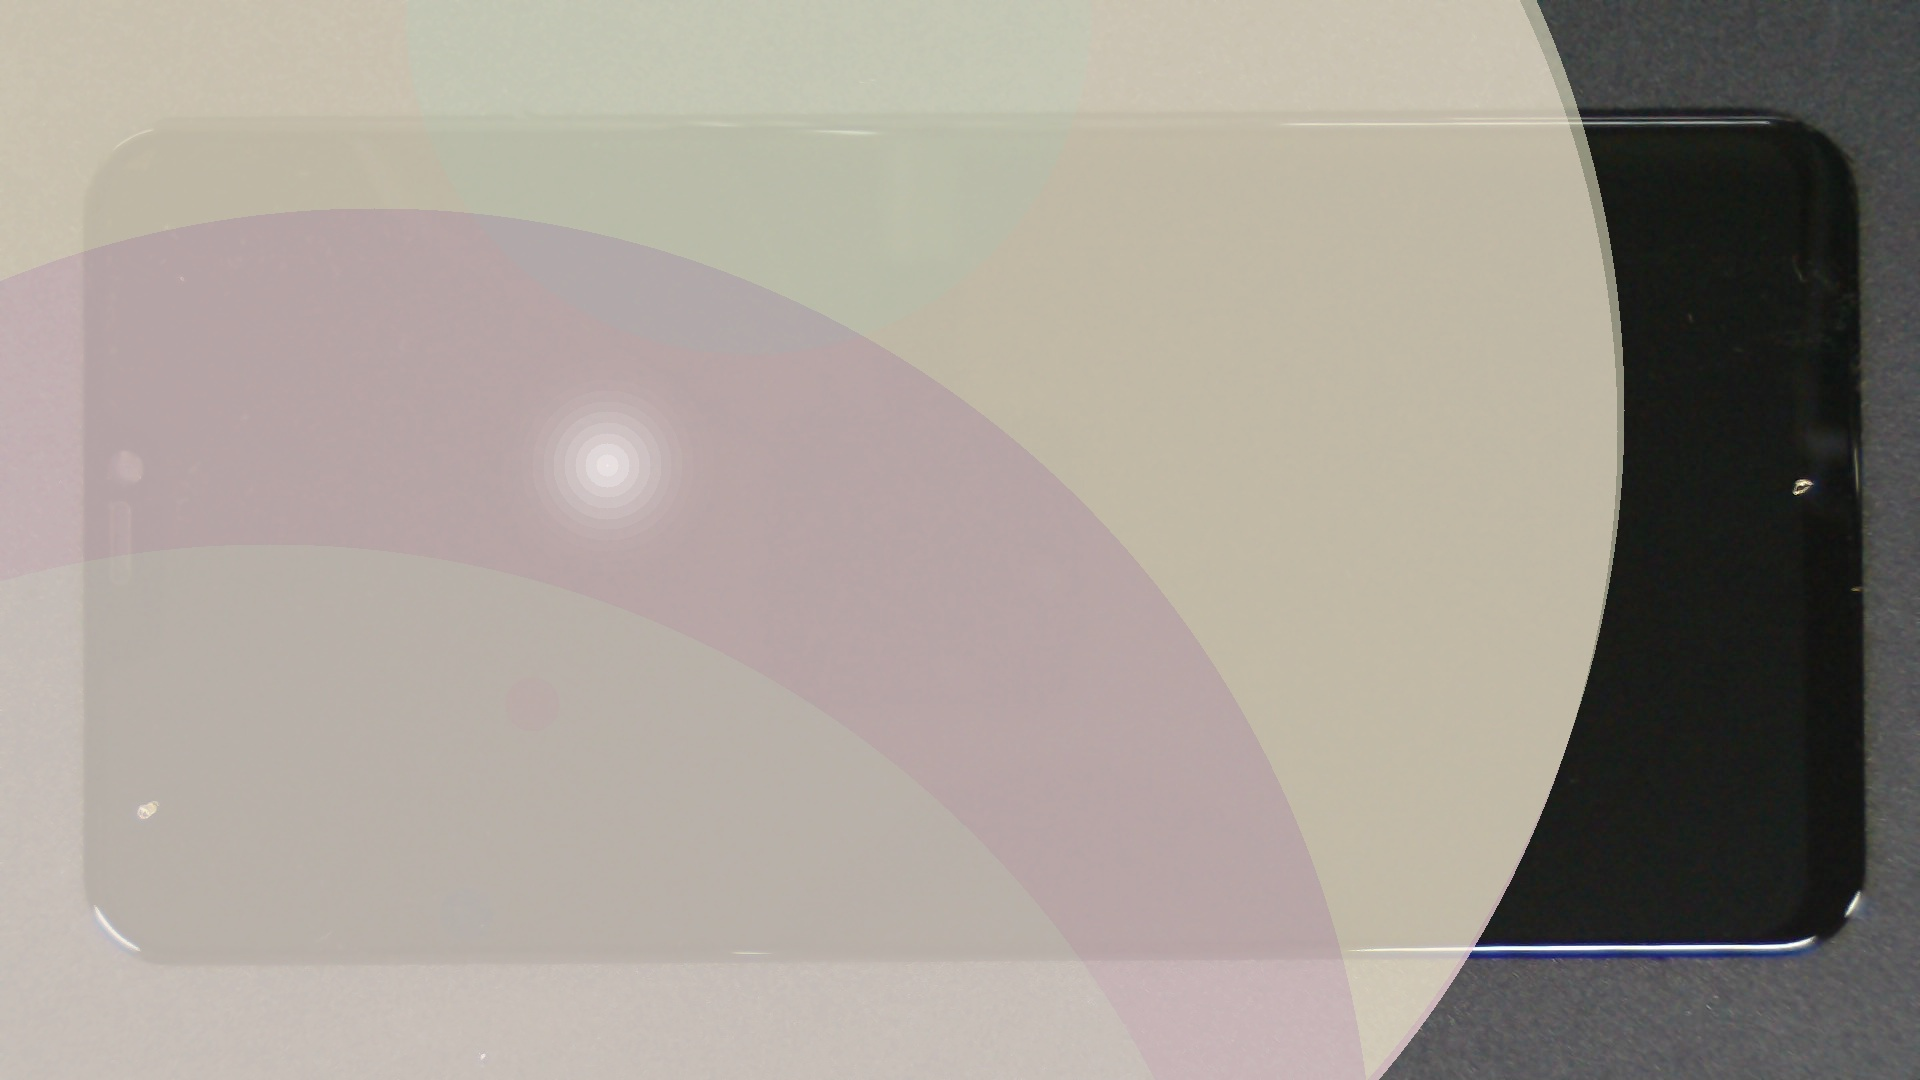oil: (905, 237, 1920, 716), (74, 398, 222, 1080)
